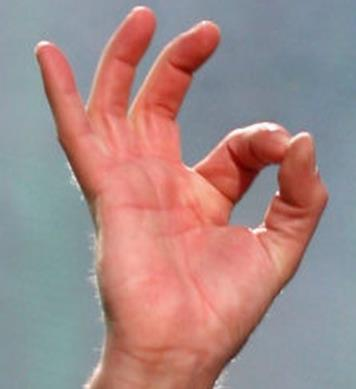left: (32, 4, 335, 378)
